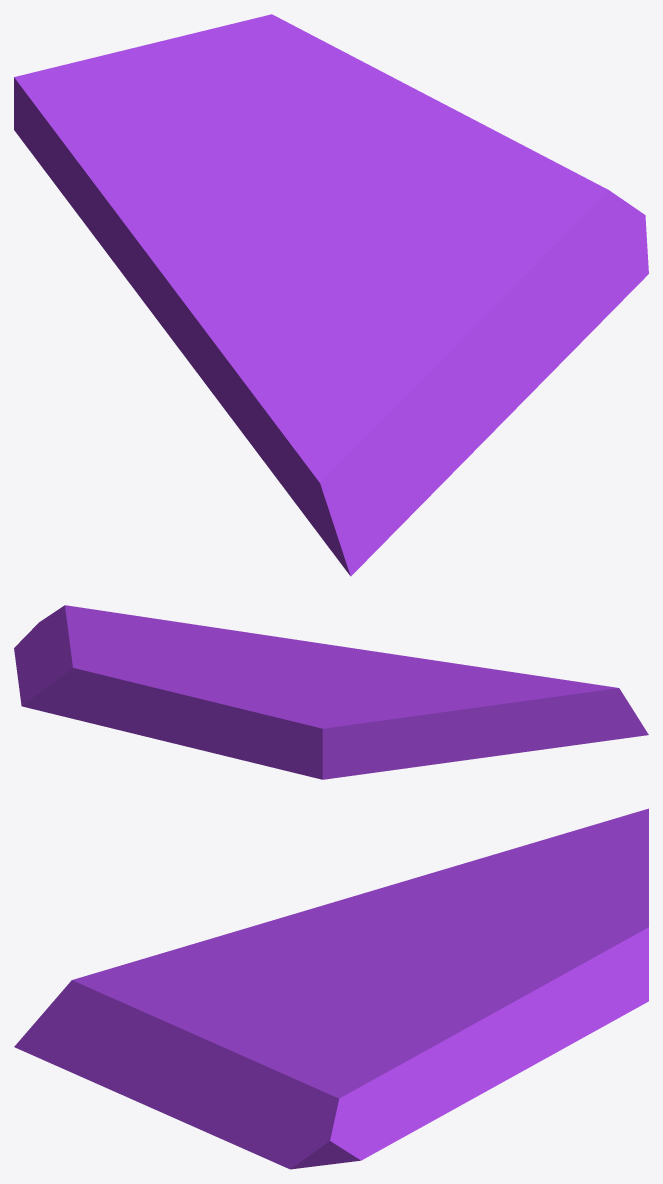
File: Window_165_3_chunks.fbx
3 views of the same model, one above another, from view 1: azimuth 30°, elevation 25°; view 2: azimuth 150°, elevation 25°; view 3: azimuth 270°, elevation 25° (orthographic). The views are drawn at different scales.
Parts seen in each view (by area): view 1: Window_165_3_1, Window_165_3_5, Window_165_3_6, Window_165_3_27, Window_165_3_14, Window_165_3_9, Window_165_3_7, Window_165_3_4, Window_165_3_18, Window_165_3_26, Window_165_3_8, Window_165_3_23 (+10 smaller); view 2: Window_165_3_23, Window_165_3_27, Window_165_3_6, Window_165_3_22, Window_165_3_9, Window_165_3_1, Window_165_3_21, Window_165_3_4, Window_165_3_7, Window_165_3_19, Window_165_3_5, Window_165_3_14 (+10 smaller); view 3: Window_165_3_6, Window_165_3_1, Window_165_3_4, Window_165_3_5, Window_165_3_14, Window_165_3_7, Window_165_3_18, Window_165_3_26, Window_165_3_8, Window_165_3_9, Window_165_3_27, Window_165_3_3 (+10 smaller).
Part boxes in pixels (box(x1,y1,x2,y2)): Window_165_3_1: box(304, 229, 481, 472); Window_165_3_5: box(421, 199, 603, 442); Window_165_3_6: box(300, 41, 498, 207); Window_165_3_27: box(69, 150, 224, 372); Window_165_3_14: box(291, 426, 452, 576); Window_165_3_9: box(203, 336, 330, 485); Window_165_3_7: box(19, 98, 346, 195); Window_165_3_4: box(473, 133, 648, 269); Window_165_3_18: box(54, 119, 311, 215); Window_165_3_26: box(122, 176, 306, 291); Window_165_3_8: box(195, 71, 335, 183); Window_165_3_23: box(14, 51, 170, 136); Window_165_3_23: box(168, 694, 338, 779); Window_165_3_27: box(373, 696, 500, 771); Window_165_3_6: box(17, 625, 245, 705); Window_165_3_22: box(64, 665, 220, 741); Window_165_3_9: box(493, 681, 619, 754); Window_165_3_1: box(251, 648, 563, 681); Window_165_3_21: box(21, 658, 160, 740); Window_165_3_4: box(14, 605, 145, 672); Window_165_3_7: box(239, 663, 350, 778); Window_165_3_19: box(332, 692, 383, 778); Window_165_3_5: box(121, 613, 349, 651); Window_165_3_14: box(543, 680, 648, 741); Window_165_3_6: box(381, 944, 645, 1091); Window_165_3_1: box(98, 958, 352, 1100); Window_165_3_4: box(293, 1032, 485, 1168); Window_165_3_5: box(135, 1014, 358, 1122); Window_165_3_14: box(14, 981, 136, 1088); Window_165_3_7: box(409, 818, 617, 974); Window_165_3_18: box(410, 830, 586, 956); Window_165_3_26: box(310, 866, 498, 960); Window_165_3_8: box(427, 897, 572, 968); Window_165_3_9: box(70, 918, 280, 981); Window_165_3_27: box(312, 839, 544, 921); Window_165_3_3: box(305, 997, 425, 1048).
Bounding box in the file's own units: 937 × 481 × 1159.
